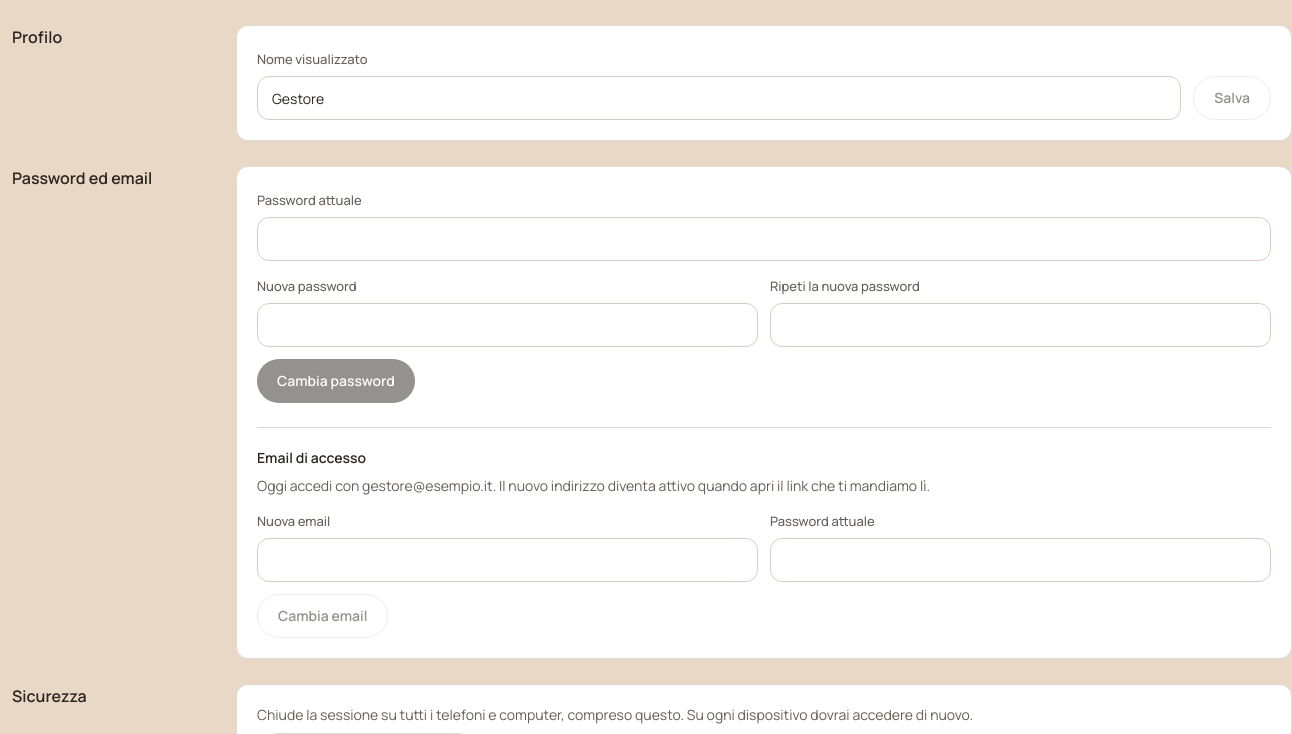
Test: Impostazioni > Account: password › conferma diversa: «Le due password non coincidono» e pulsante disattivato
This screenshot has width=1292, height=734.
Type "vecchia-password" into the password field with test id "account-pw-current" at (764, 239), box [257,217,1271,261]
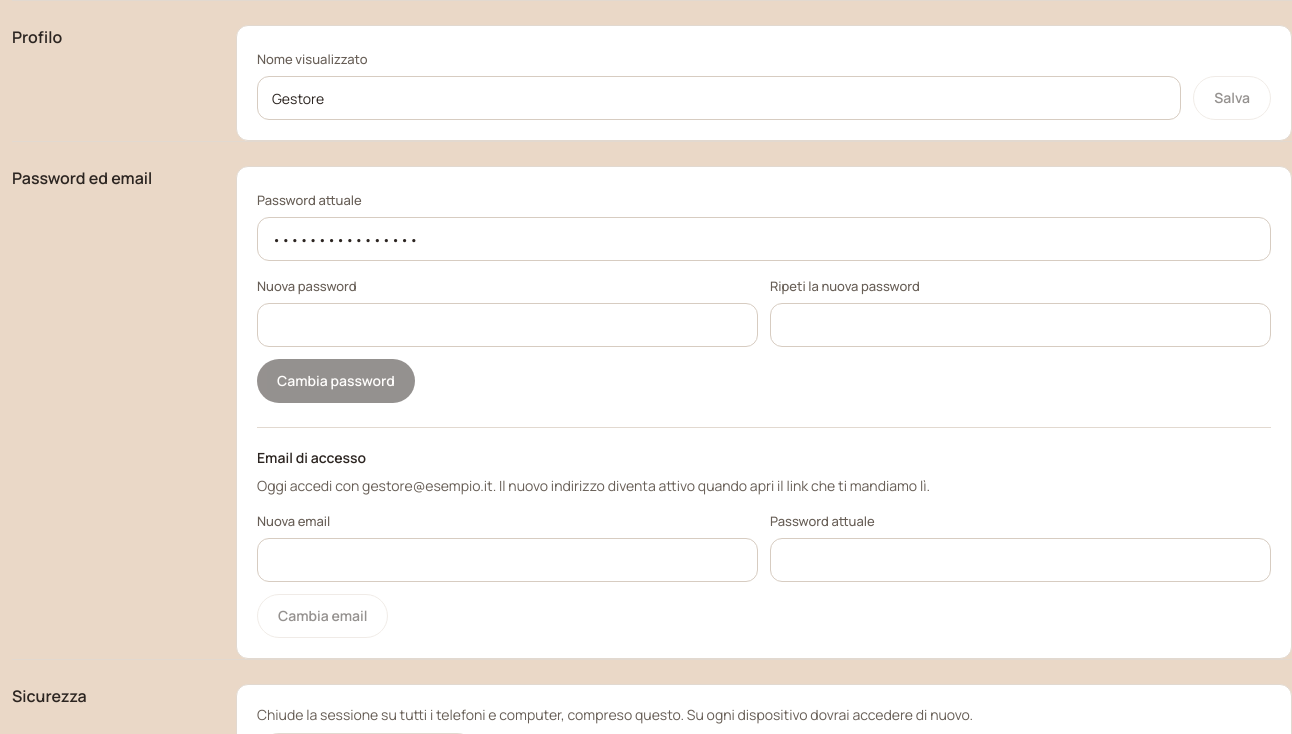
Type "nuova-password" into the password field with test id "account-pw-new" at (508, 325), box [257,303,758,347]
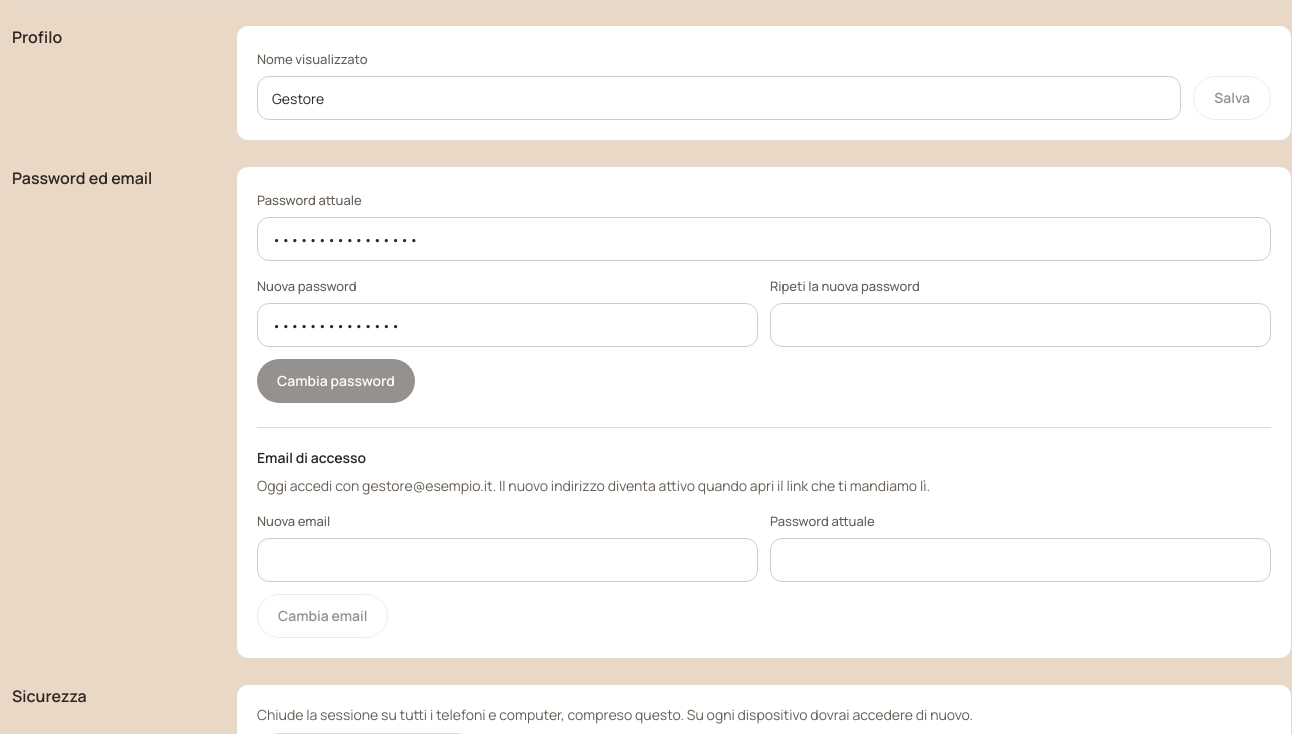
Type "nuova-passwort" into the password field with test id "account-pw-confirm" at (1020, 325), box [770,303,1271,347]
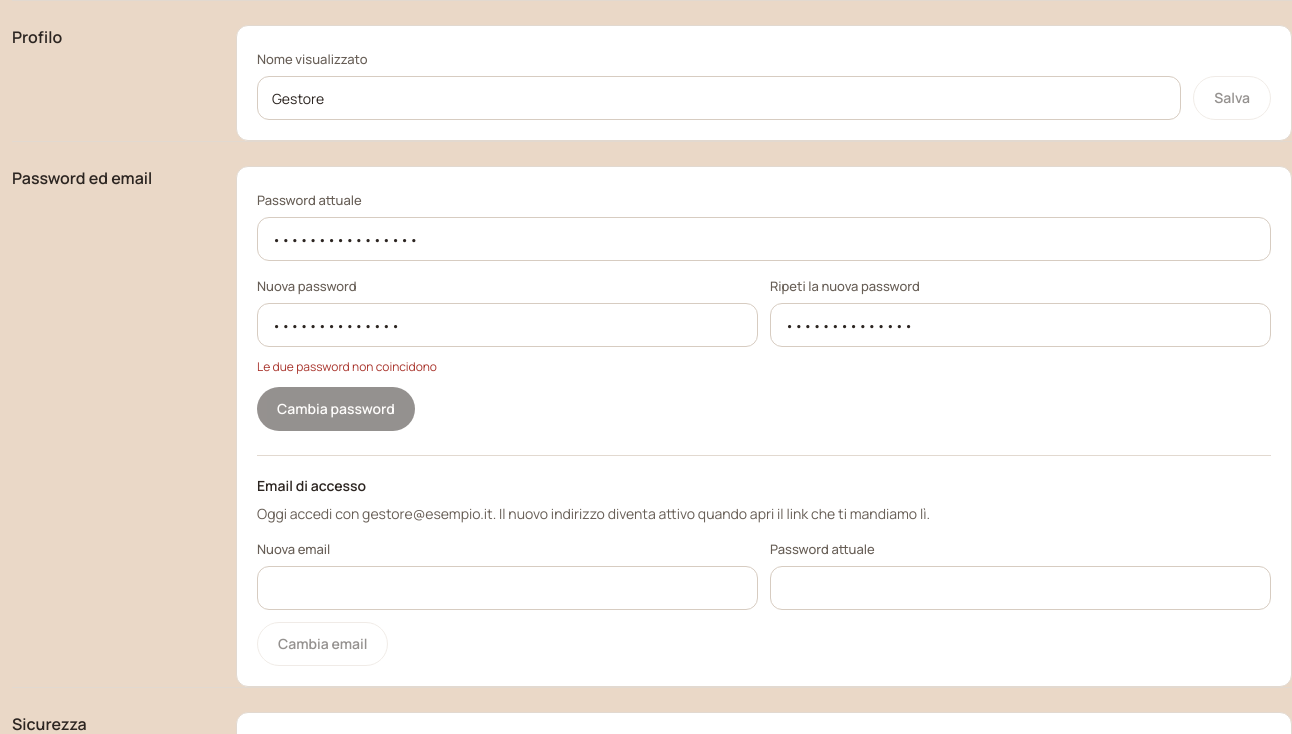
Expected: the button with test id "account-pw-submit" is disabled, [257,387,415,431]
Result: the form with test id "account-password-form" shows "Le due password non coincidono" at [257,358,437,375]
